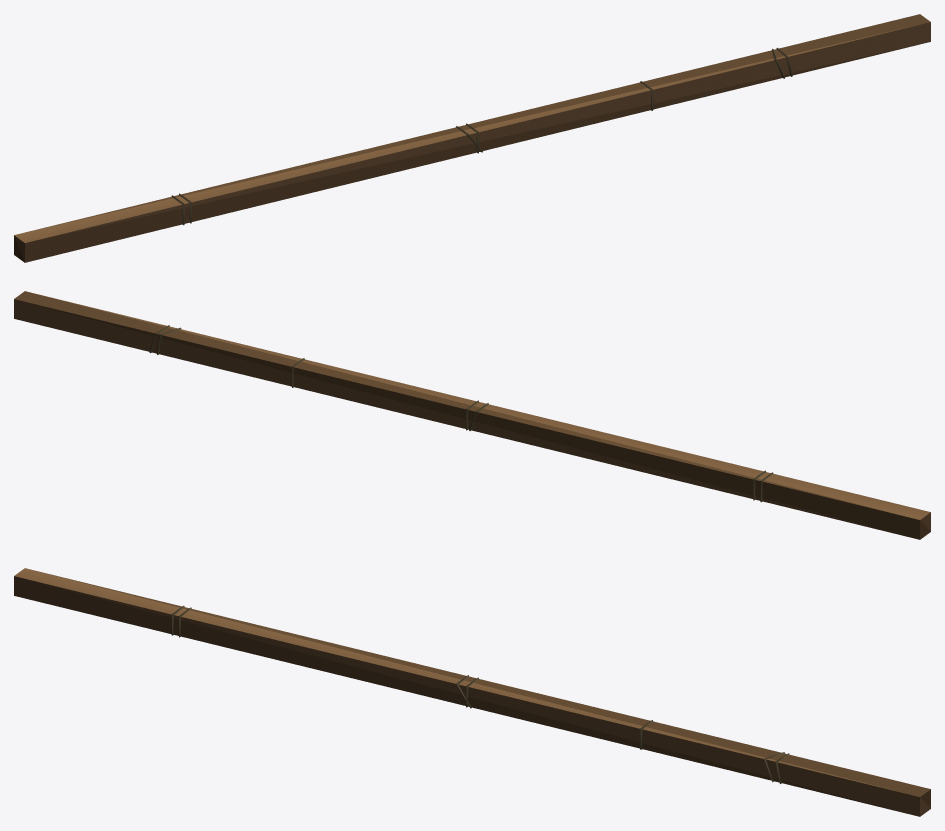
The model's file is Wood_Big_Beam_2_Lod0.fbx.
3 renders of one model, top to bottom at view 1: azimuth 30°, elevation 25°; view 2: azimuth 150°, elevation 25°; view 3: azimuth 330°, elevation 25°, orthographic.
Visible parts, largest first — view 1: polySurface1106; view 2: polySurface1106; view 3: polySurface1106.
Part boxes in pixels (x1,y1,x2,y2): polySurface1106: [14, 14, 930, 262]; polySurface1106: [14, 291, 930, 539]; polySurface1106: [14, 568, 930, 816].
Size of the model in its own units: 2400 by 55 by 55.
Materials: 1 (1 with a texture image).
